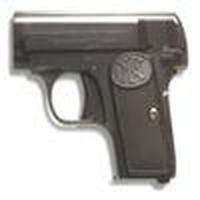gun: (10, 10, 180, 180)
